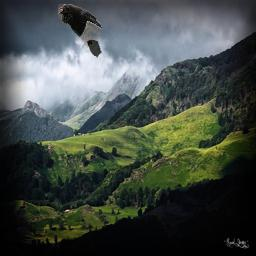Crow: (58, 4, 102, 58)
